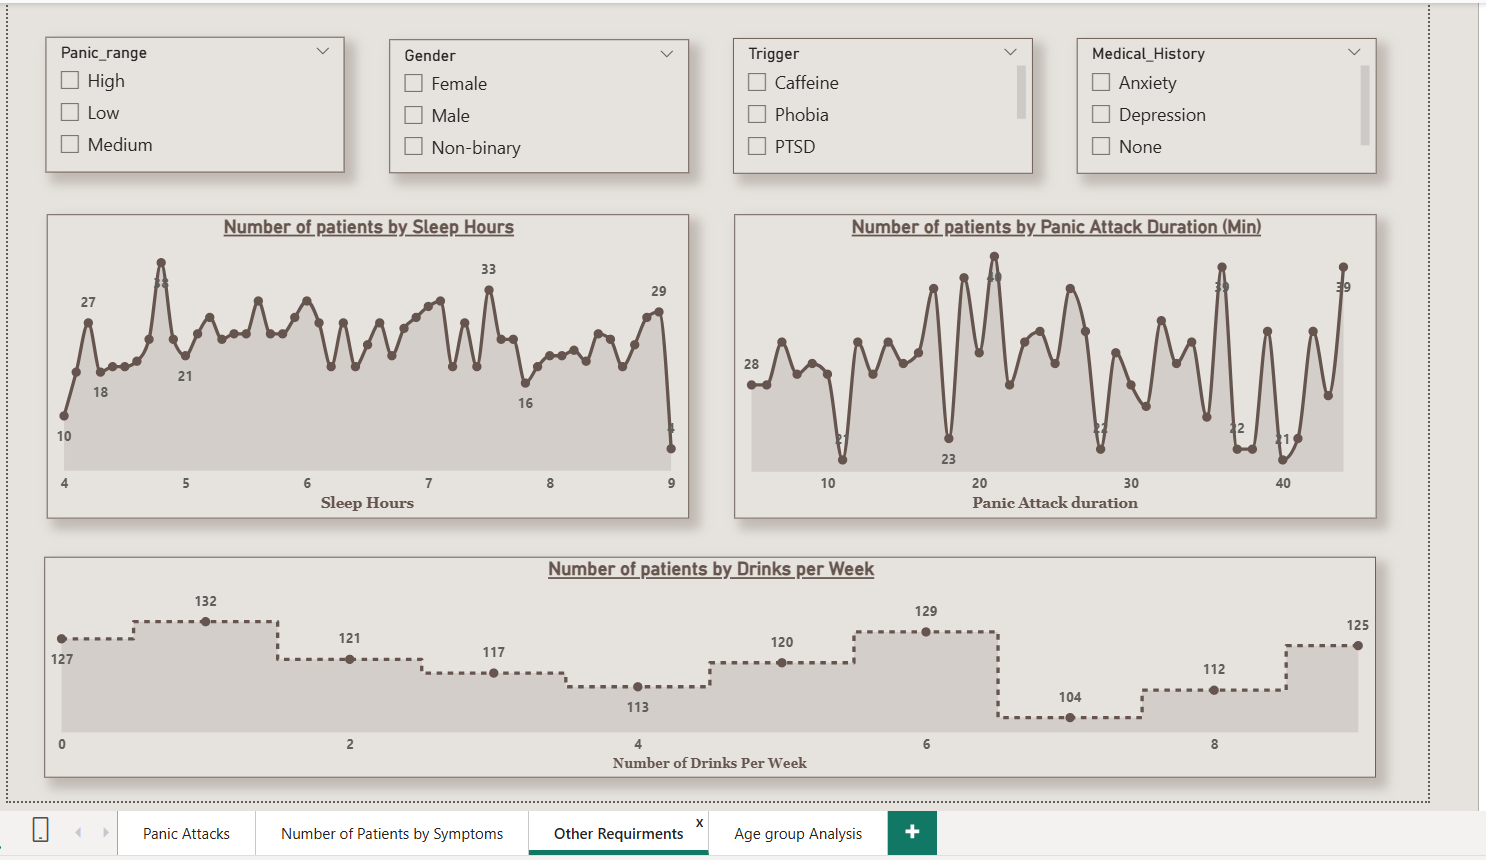

This screenshot's page, from the dashboard's own definition file:
{"tool":"powerbi","page":{"name":"Other Requirments","canvas":[1280,720],"ordinal":2},"visuals":[{"type":"slicer","fields":{"Values":["panic_attack_dataset.panic_range"]},"box":[33.4,30.8,269.9,122.1],"z":0},{"type":"slicer","fields":{"Values":["panic_attack_dataset.Gender"]},"box":[343.5,33,270.1,120.9],"z":1000},{"type":"slicer","fields":{"Values":["panic_attack_dataset.Trigger"]},"box":[653.8,31.4,270.1,122.5],"z":2000},{"type":"slicer","fields":{"Values":["panic_attack_dataset.Medical_History"]},"box":[964.1,31.4,270.1,122.5],"z":3000},{"type":"areaChart","title":"Number of patients by Drinks per Week","fields":{"Category":["panic_attack_dataset.Alcohol_Consumption"],"Y":["CountNonNull(panic_attack_dataset.ID)"]},"box":[33,499.3,1201.2,199.4],"z":4000},{"type":"areaChart","title":"Number of patients by Sleep Hours","fields":{"Y":["CountNonNull(panic_attack_dataset.ID)"],"Category":["panic_attack_dataset.Sleep_Hours"]},"box":[34.5,190,579.4,274.8],"z":5000},{"type":"areaChart","title":"Number of patients by Panic Attack Duration (Min)","fields":{"Y":["CountNonNull(panic_attack_dataset.ID)"],"Category":["panic_attack_dataset.Duration_Minutes"]},"box":[654.8,190,579.4,274.8],"z":6000}]}

Visuals, with their boxes in screenshot pixels (x1, y1, x2, y2):
slicer - panic_attack_dataset.panic_range: {"left": 45, "top": 34, "right": 343, "bottom": 169}
slicer - panic_attack_dataset.Gender: {"left": 387, "top": 36, "right": 685, "bottom": 170}
slicer - panic_attack_dataset.Trigger: {"left": 730, "top": 35, "right": 1028, "bottom": 170}
slicer - panic_attack_dataset.Medical_History: {"left": 1072, "top": 35, "right": 1371, "bottom": 170}
"Number of patients by Drinks per Week" areaChart: {"left": 44, "top": 551, "right": 1371, "bottom": 772}
"Number of patients by Sleep Hours" areaChart: {"left": 46, "top": 210, "right": 686, "bottom": 513}
"Number of patients by Panic Attack Duration (Min)" areaChart: {"left": 731, "top": 210, "right": 1371, "bottom": 513}
